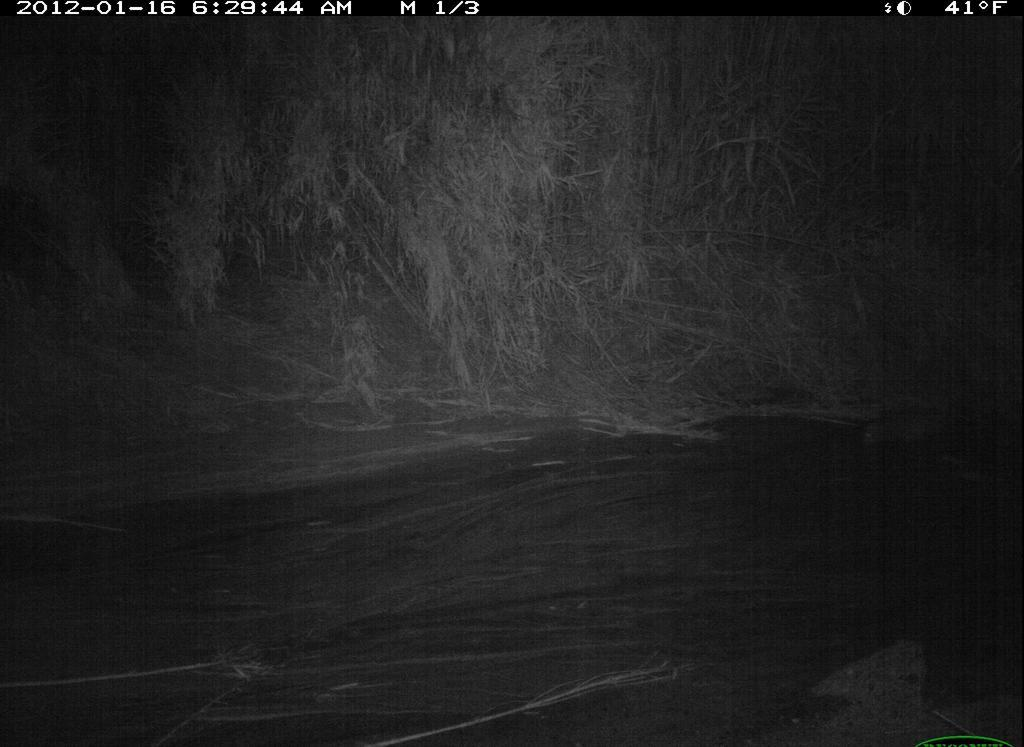opossum: (853, 396, 971, 465)
